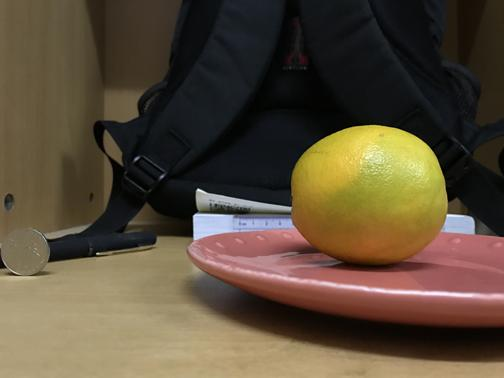coin: (3, 226, 51, 275)
orange: (291, 123, 449, 261)
